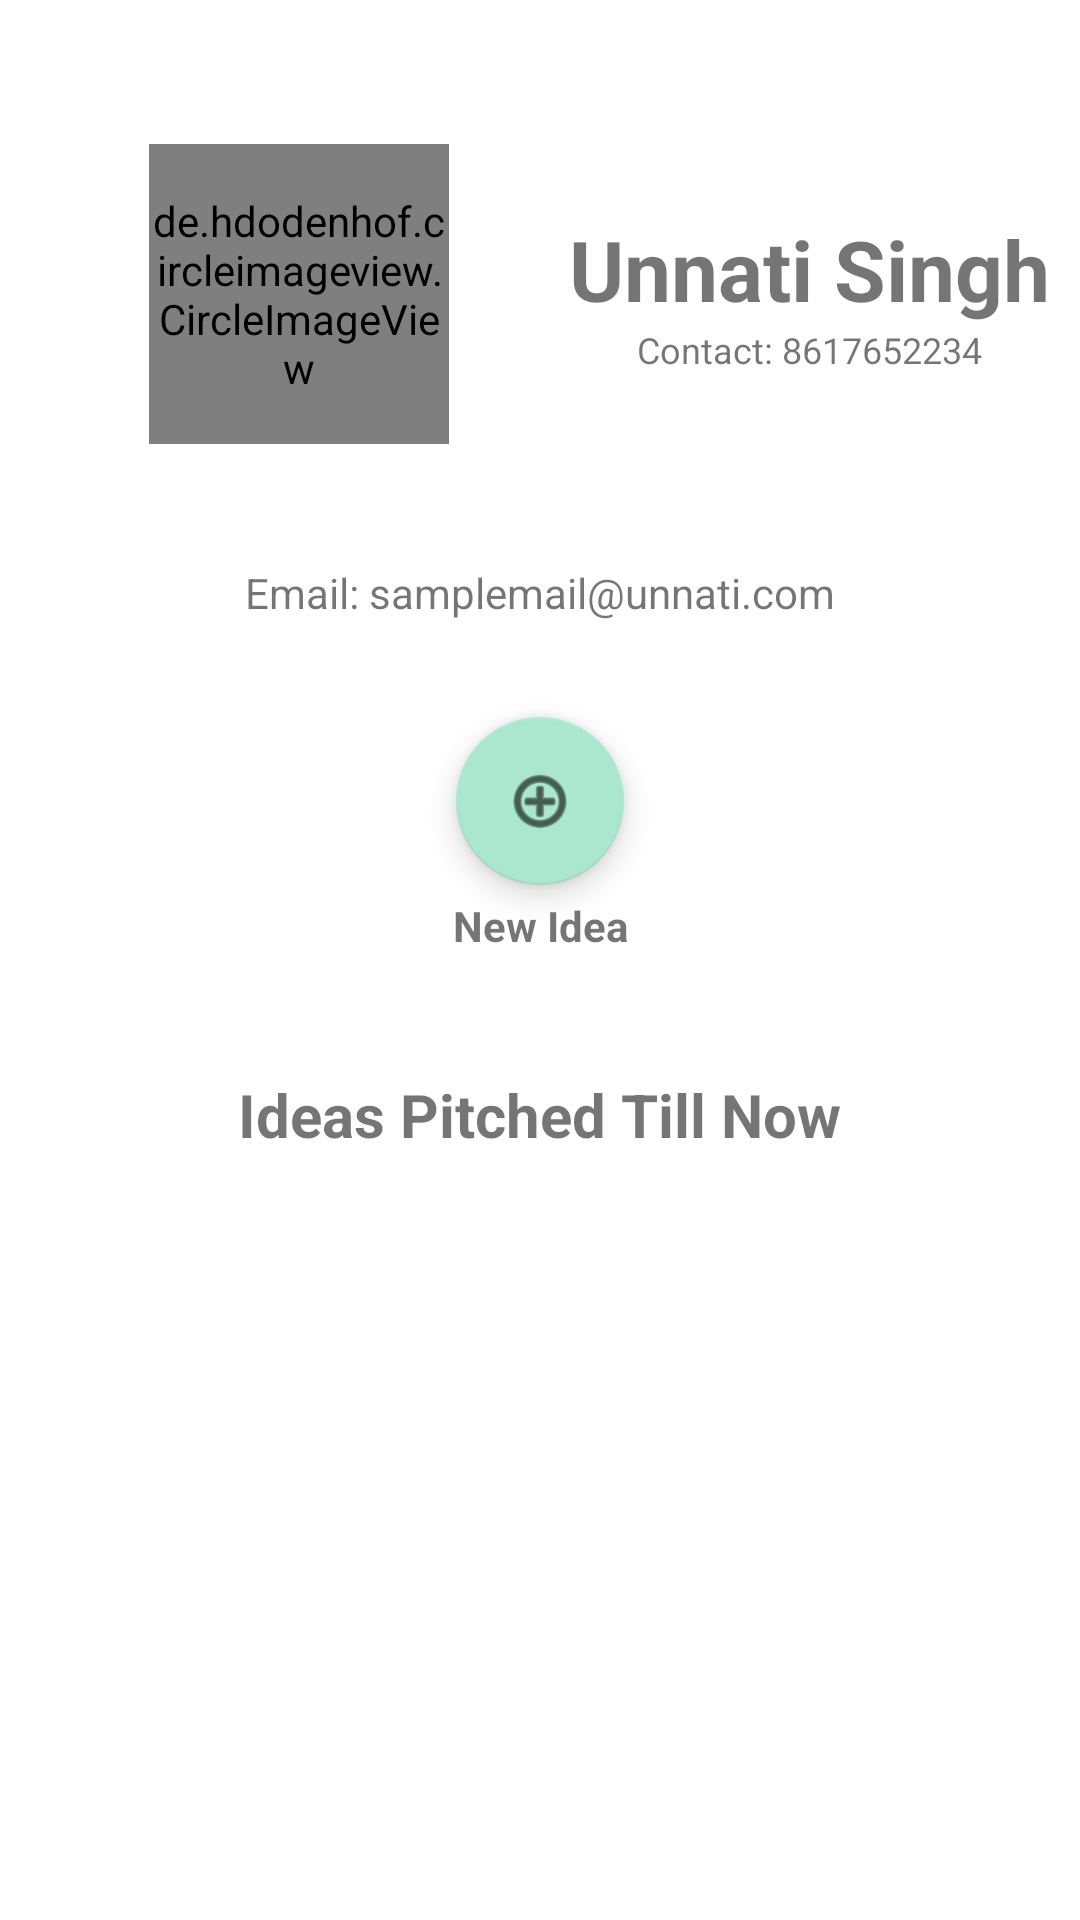

Where icons sit on this 1080 × 1920 app screen, as region(x1, y1, x2, y2):
add: region(456, 717, 624, 885)
